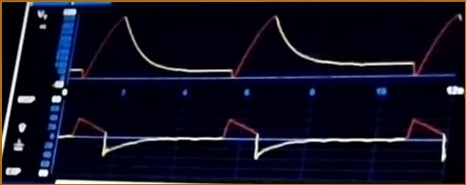Flow: (62, 109, 448, 174)
Leakage Volume: (72, 14, 463, 83)
